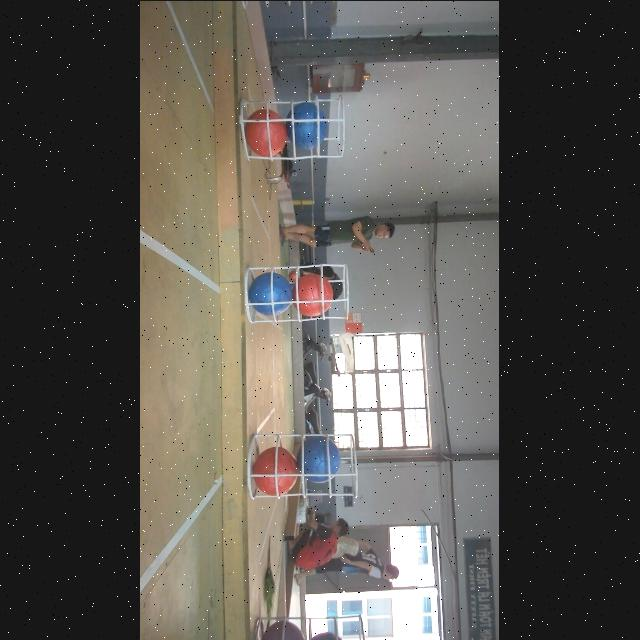B: (301, 434, 341, 482), (250, 271, 292, 315), (289, 100, 327, 148)
R: (254, 444, 300, 494), (293, 273, 335, 315), (248, 108, 286, 154)
